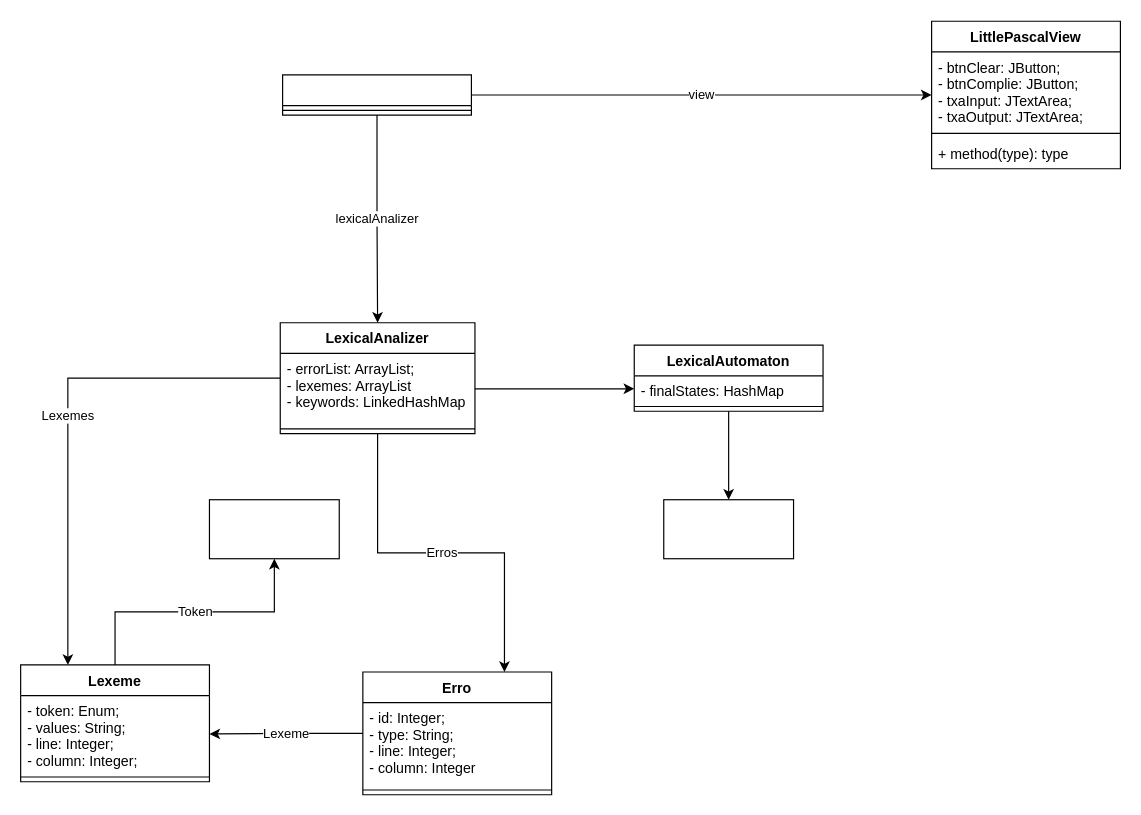
This 1141x815 diagram has some shape labels left out. Here are the shapes that lost their labels. From the top down, the centre of each, then its label:
the point at 376,94: LexicalController
the point at 273,529: «Enum» Token
the point at 728,529: «Enum» LexicalState
